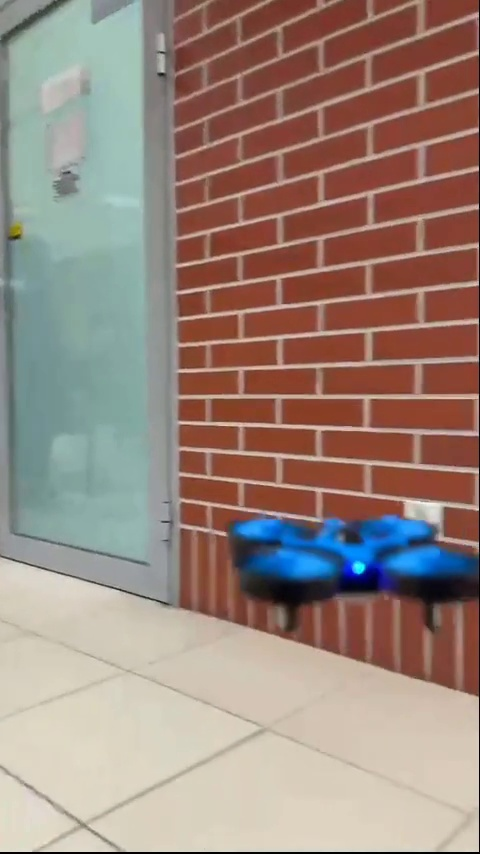drone: (215, 506, 480, 643)
